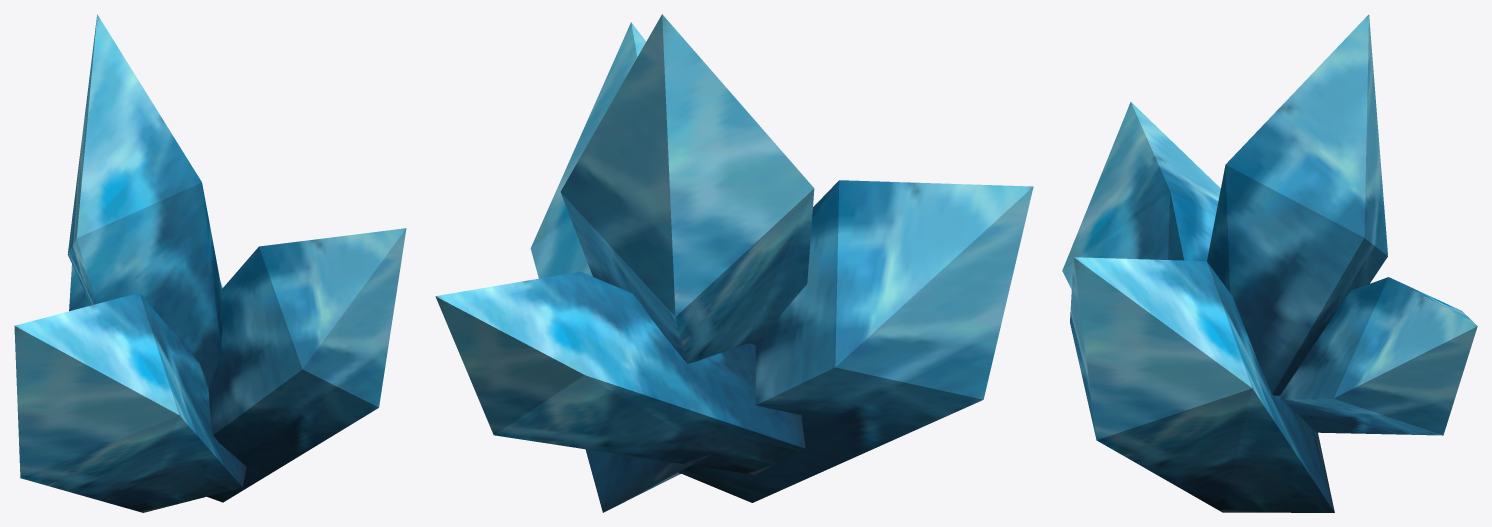
The model's file is mine_ember_ore03.fbx.
3 views of the same model, side by side, from view 1: azimuth 30°, elevation 25°; view 2: azimuth 150°, elevation 25°; view 3: azimuth 270°, elevation 25° (orthographic). The views are drawn at different scales.
Visible parts, largest first — view 1: mine_ember_ore01.psd; view 2: mine_ember_ore01.psd; view 3: mine_ember_ore01.psd.
Part boxes in pixels (left/top/right/bottom): mine_ember_ore01.psd: left=14, top=14, right=406, bottom=512; mine_ember_ore01.psd: left=435, top=14, right=1033, bottom=512; mine_ember_ore01.psd: left=1062, top=14, right=1477, bottom=512.
Bounding box in the file's own units: 0.6286 × 0.7426 × 0.5947.
